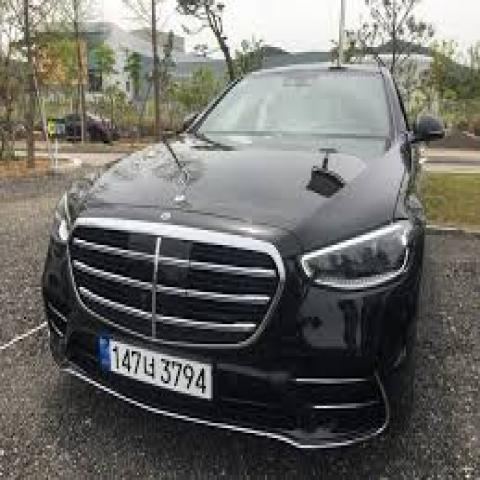LP: (83, 324, 223, 406)
